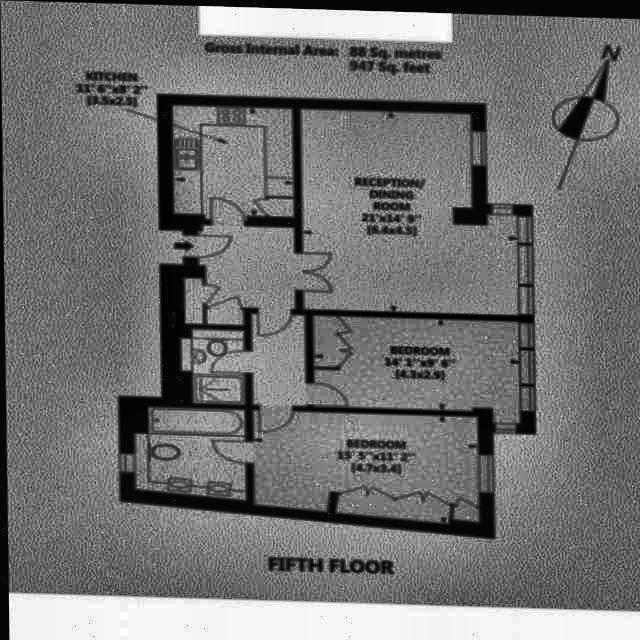room: (300, 108, 518, 312), (249, 408, 482, 521), (311, 315, 519, 420), (169, 104, 295, 216), (183, 224, 294, 324), (131, 406, 245, 499), (179, 329, 243, 403), (251, 312, 303, 403)
